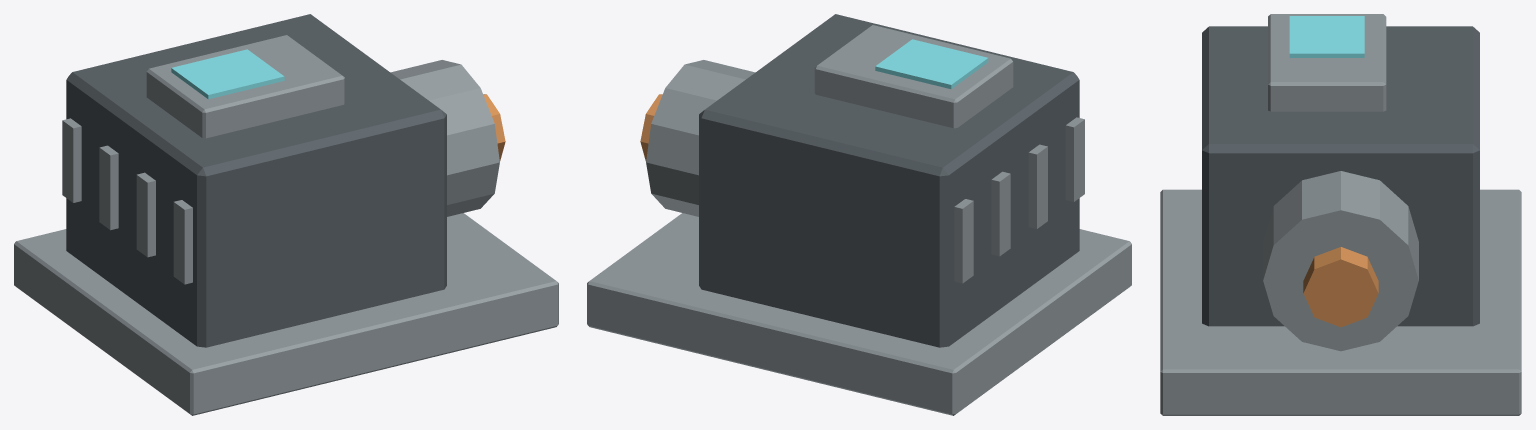
The model's file is machinery.glb.
3 renders of one model, left to right at view 1: azimuth 30°, elevation 25°; view 2: azimuth 150°, elevation 25°; view 3: azimuth 270°, elevation 25°, orthographic.
Visible parts, largest first — view 1: machinery / Graphite enamel, machinery / Machined steel, machinery / Cyan markings; view 2: machinery / Graphite enamel, machinery / Machined steel, machinery / Cyan markings; view 3: machinery / Machined steel, machinery / Graphite enamel, machinery / Copper, machinery / Cyan markings.
Boxes of the visible parts, left/top/right/bottom form: machinery / Graphite enamel: left=66, top=14, right=446, bottom=347; machinery / Machined steel: left=14, top=35, right=558, bottom=415; machinery / Cyan markings: left=171, top=49, right=284, bottom=99; machinery / Graphite enamel: left=699, top=14, right=1079, bottom=347; machinery / Machined steel: left=587, top=25, right=1131, bottom=415; machinery / Cyan markings: left=875, top=39, right=988, bottom=89; machinery / Machined steel: left=1160, top=14, right=1521, bottom=415; machinery / Graphite enamel: left=1202, top=26, right=1479, bottom=326; machinery / Copper: left=1303, top=247, right=1378, bottom=327; machinery / Cyan markings: left=1289, top=16, right=1364, bottom=57.
Bounding box in the file's own units: 0.3235 × 0.2055 × 0.26.
